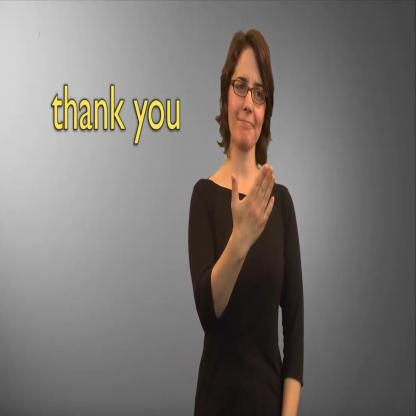ThankYou: (177, 18, 296, 324)
